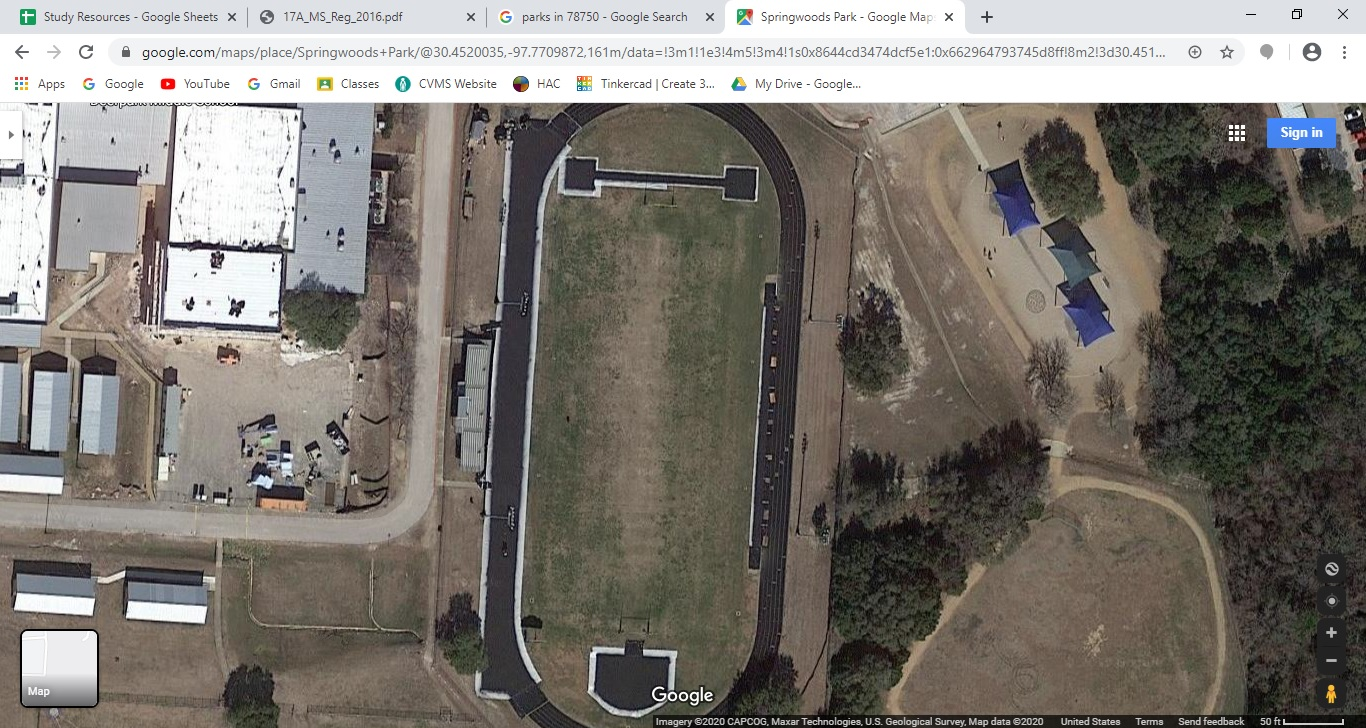soccer: (470, 110, 820, 728)
